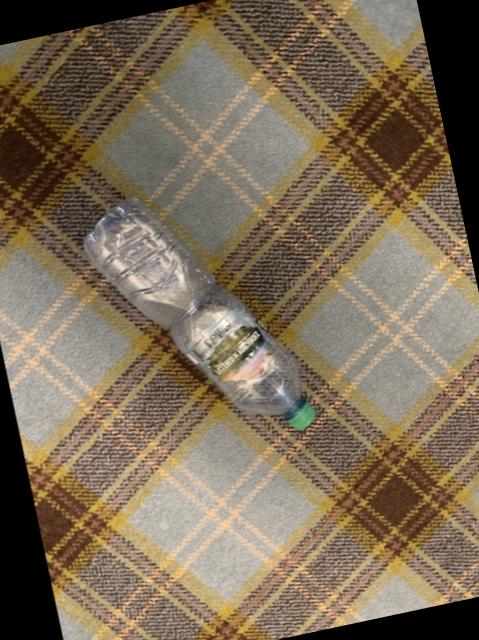plastic: (82, 198, 313, 430)
